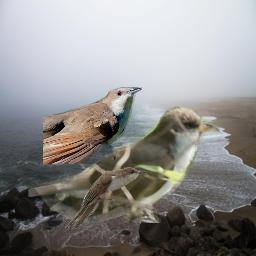Cuckoo: (28, 106, 220, 223), (43, 87, 142, 164), (65, 167, 147, 229)
